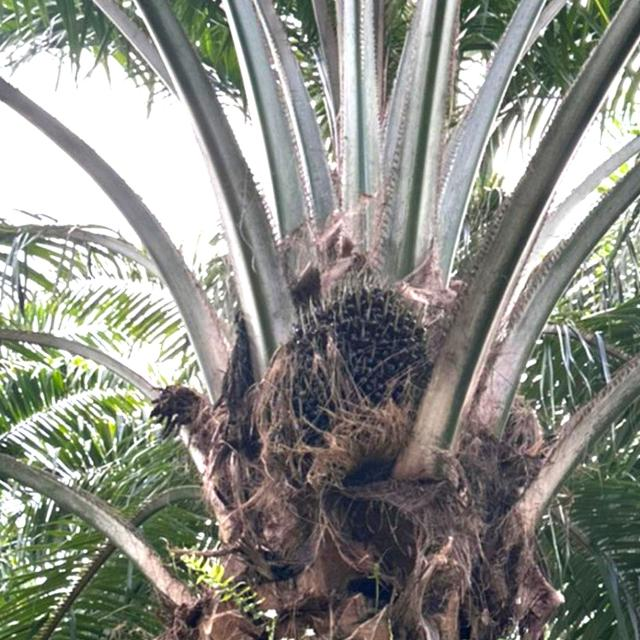almost: (251, 276, 448, 491)
